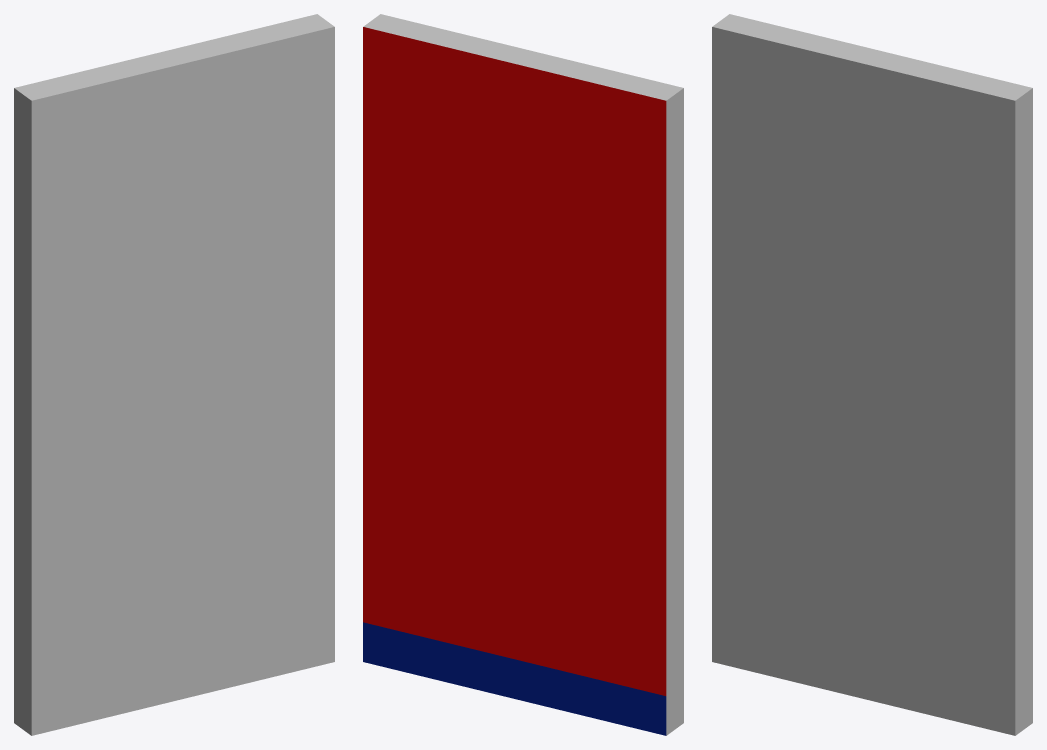
The model's file is Wall_02_Snaps014.fbx.
3 views of the same model, side by side, from view 1: azimuth 30°, elevation 25°; view 2: azimuth 150°, elevation 25°; view 3: azimuth 330°, elevation 25° (orthographic).
Visible parts, largest first — view 1: Wall_02; view 2: Wall_02; view 3: Wall_02.
Boxes of the visible parts, box(x1,y1,x2,y2) form: Wall_02: box(14, 14, 334, 735); Wall_02: box(363, 14, 683, 735); Wall_02: box(712, 14, 1032, 735).
Bounding box in the file's own units: 200 × 400 × 20.
